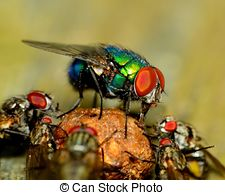green bottles fly: (21, 25, 181, 135)
